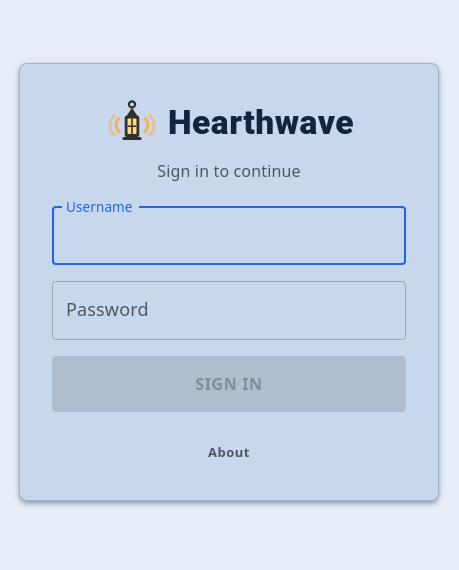
it: LoginScreen › error handling › shows network error message for unknown errors
This screenshot has width=459, height=570.
Type "Alice" into the field labelled "Username" at (229, 236), box top-left (52, 207), bottom-right (406, 266)
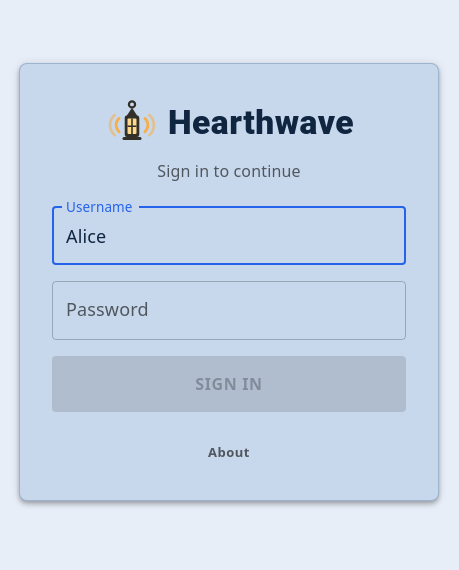
Type "anypass" into the password field labelled "Password" at (229, 311), box top-left (52, 281), bottom-right (406, 340)
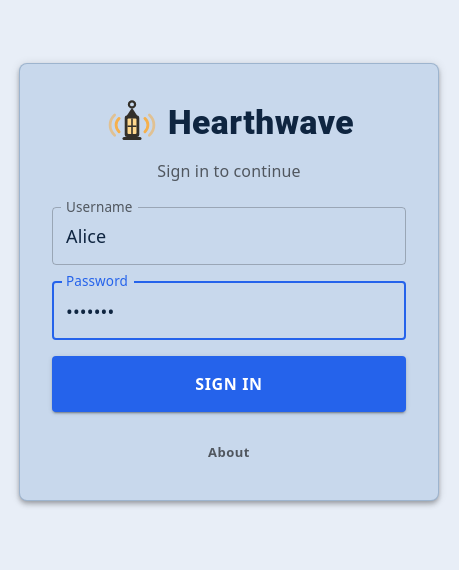
Click the button "Sign In" at (229, 384), box top-left (52, 356), bottom-right (406, 412)
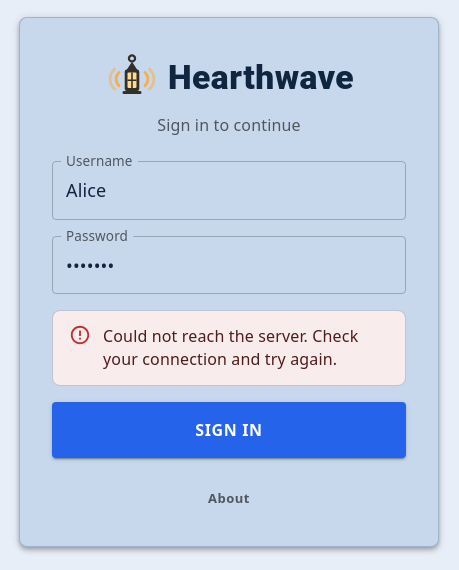
expect the text "Could not reach the server" is shown: met, box top-left (103, 325), bottom-right (358, 370)
